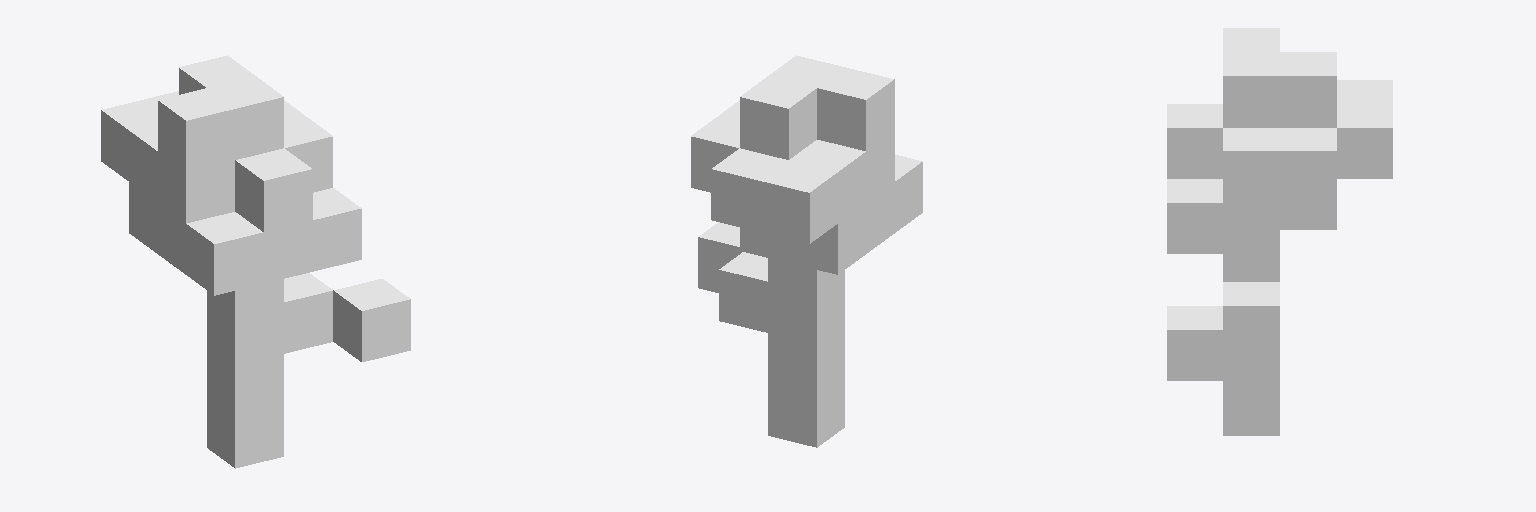
The model's file is Flower-1.obj.
3 renders of one model, left to right at view 1: azimuth 30°, elevation 25°; view 2: azimuth 150°, elevation 25°; view 3: azimuth 270°, elevation 25°, orthographic.
Parts seen in each view (by area): view 1: object 1; view 2: object 1; view 3: object 1.
Part boxes in pixels (left/top/right/bottom): object 1: left=101, top=55, right=410, bottom=468; object 1: left=691, top=55, right=922, bottom=447; object 1: left=1167, top=28, right=1392, bottom=435.
Bounding box in the file's own units: 0.4 × 0.7 × 0.4.